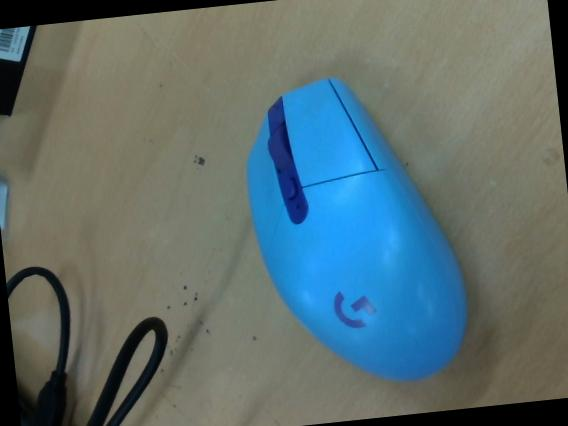mouse: (244, 77, 469, 383)
